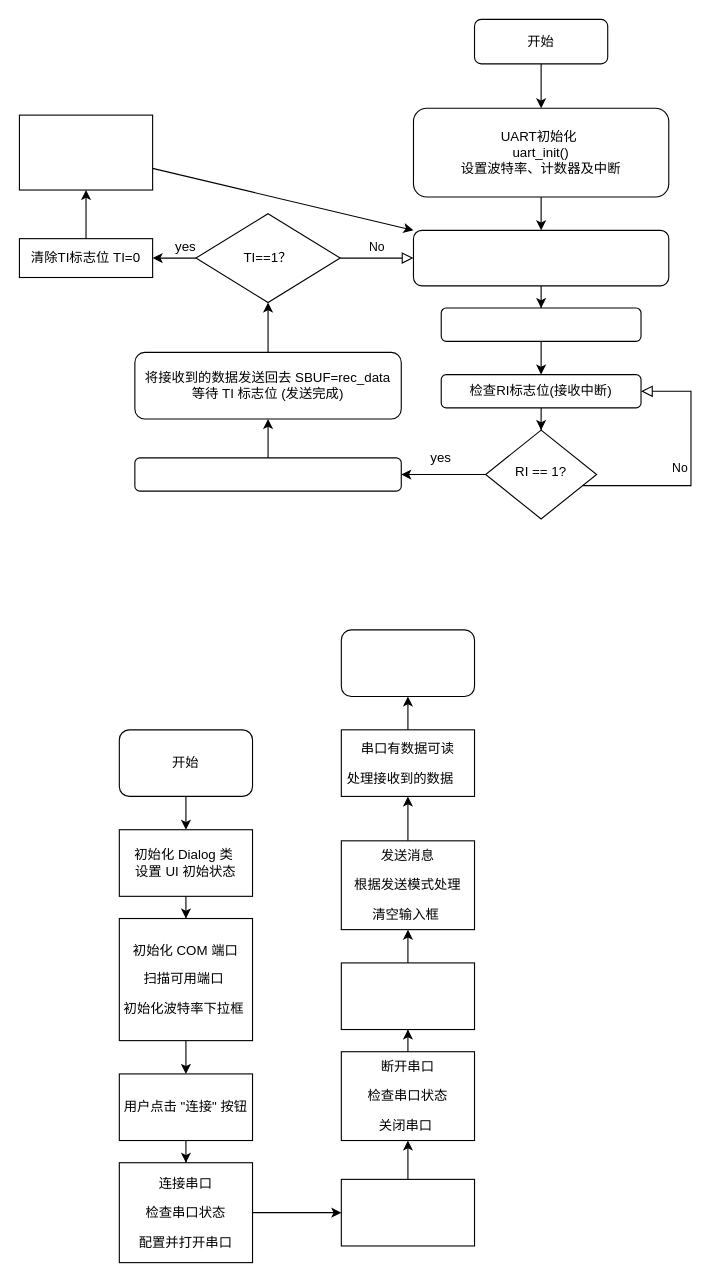
The diagram is 722 pixels wide and 1282 high, and some of its shapes have lost their labels. Each missing label, with the centre of its shape:
中断结束，返回主循环 (等待下次中断): pixel 85 152
中断触发 uartt(): pixel 540 324
主循环 while(1); 程序等待中断触发: pixel 540 257
用户点击 "发送" 按钮: pixel 407 996
用户点击 "断开" 按钮: pixel 407 1212
结束: pixel 407 663
读取接收的数据 rec_data = SBUF: pixel 267 474
